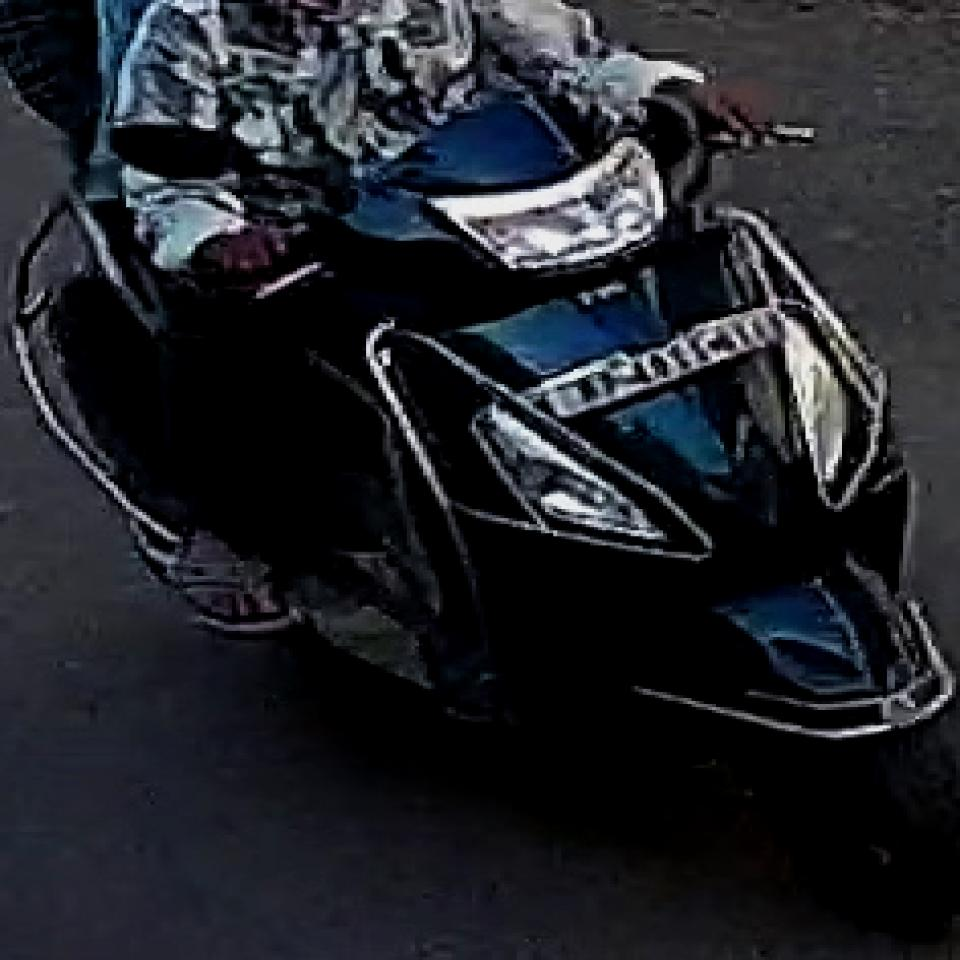head_light: (460, 407, 666, 549), (775, 318, 863, 487)
